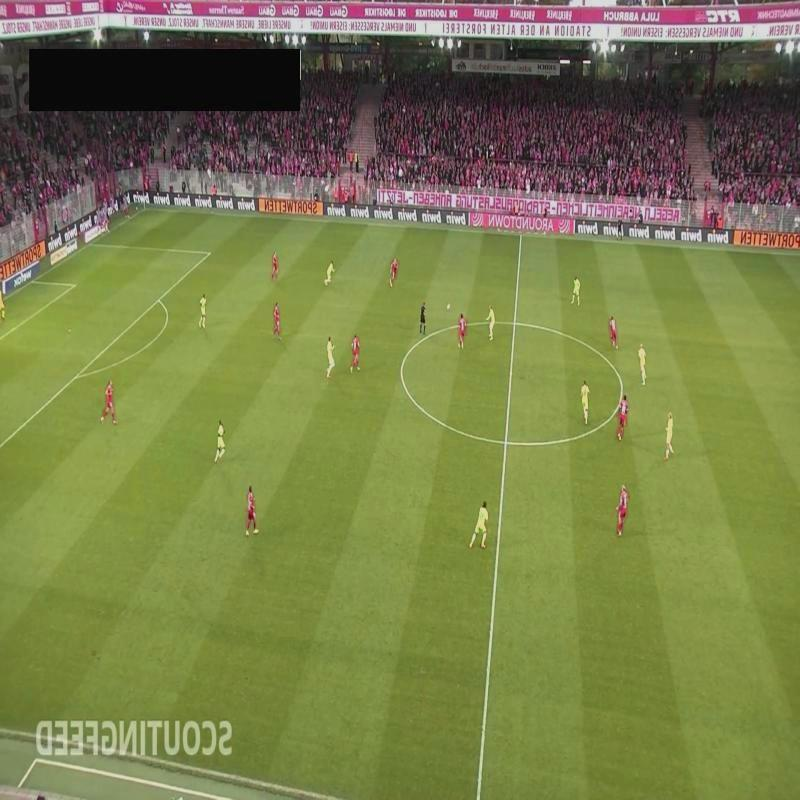1: (138, 204, 152, 217)
10: (151, 290, 166, 310)
11: (68, 368, 84, 388)
13: (514, 226, 528, 240)
14: (507, 316, 522, 330)
15: (499, 434, 513, 450)
2: (82, 237, 96, 251)
3: (25, 275, 39, 289)
7: (68, 279, 82, 293)
9: (202, 244, 218, 262)
c: (393, 357, 411, 375), (614, 382, 628, 395)
